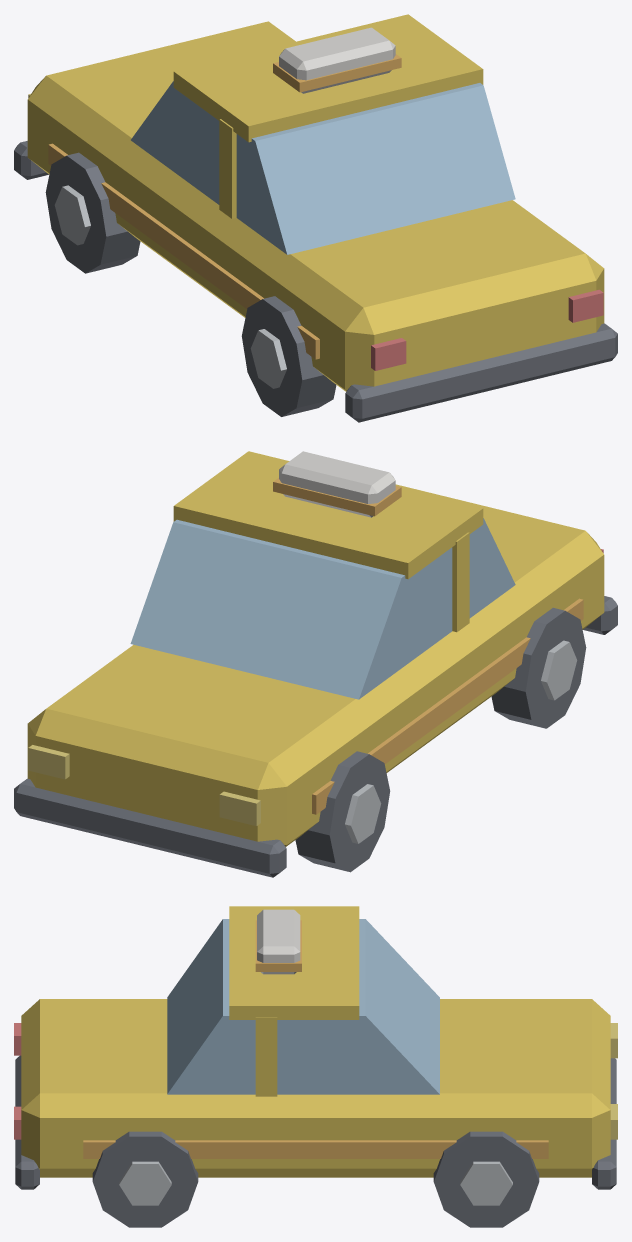
The model's file is veiculos__taxi.glb.
The picture shows the model from 3 angles, top to bottom: view 1: azimuth 30°, elevation 25°; view 2: azimuth 150°, elevation 25°; view 3: azimuth 270°, elevation 25°; orthographic projection. The views are drawn at different scales.
Visible parts, largest first — view 1: veiculos__taxi; view 2: veiculos__taxi; view 3: veiculos__taxi.
Part boxes in pixels (<box>): veiculos__taxi: <box>14,14,617,422</box>; veiculos__taxi: <box>14,451,617,877</box>; veiculos__taxi: <box>14,906,617,1227</box>.
Bounding box in the file's own units: 0.48 × 0.4258 × 0.974.
